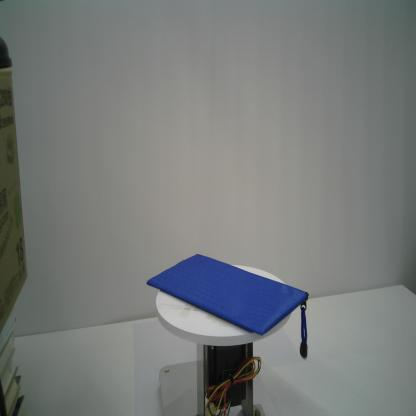Stationery: (144, 251, 311, 362)
